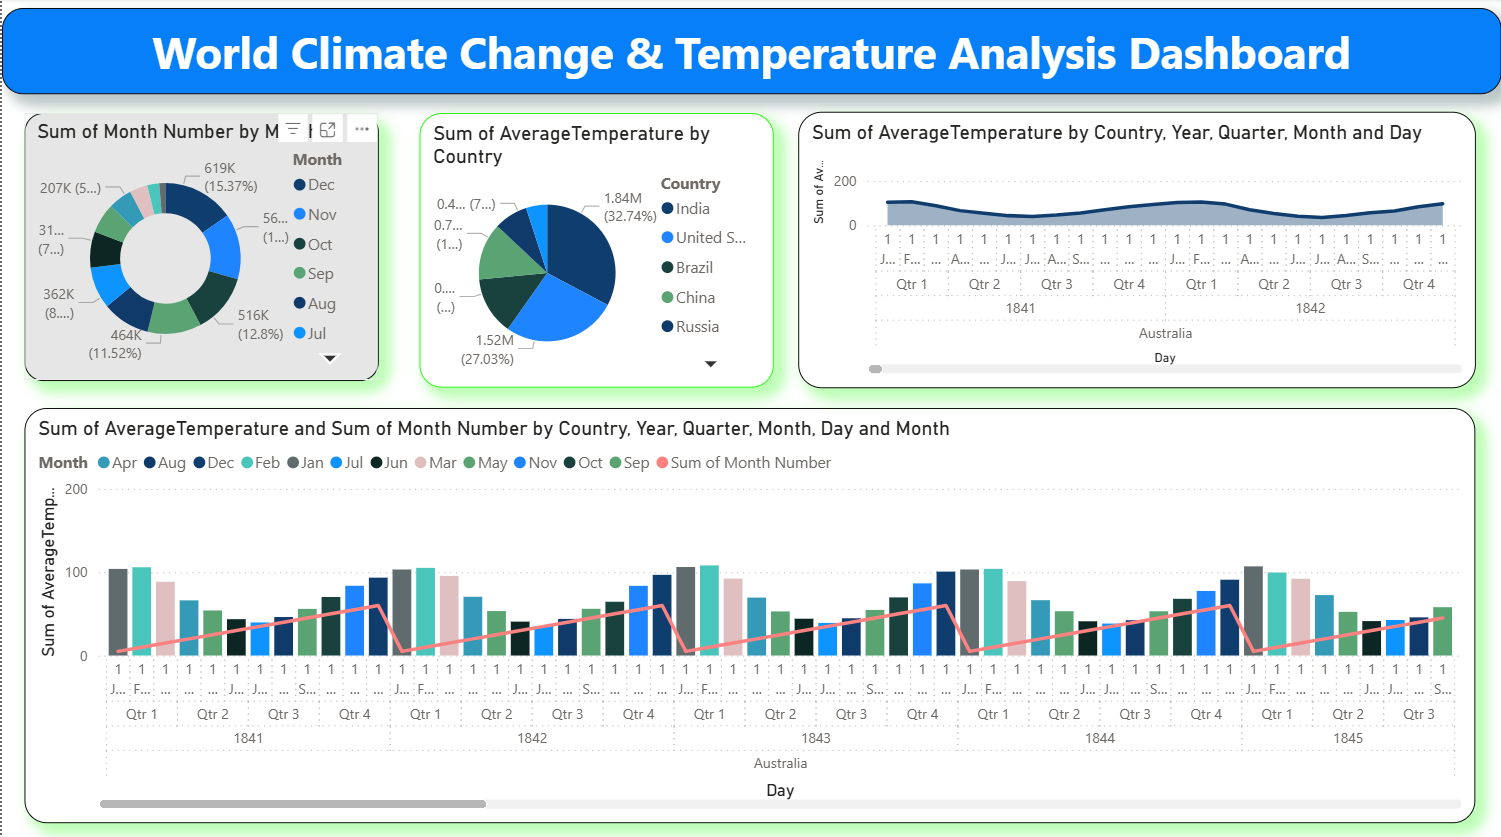

This screenshot's page, from the dashboard's own definition file:
{"tool":"powerbi","page":{"name":"Page 2","canvas":[1280,720],"ordinal":1},"visuals":[{"type":"donutChart","fields":{"Category":["GlobalLandTemperaturesByState.Month"],"Y":["Sum(GlobalLandTemperaturesByState.Month Number)"]},"box":[19.6,97.8,302,228.7],"z":0},{"type":"pieChart","fields":{"Category":["GlobalLandTemperaturesByState.Country"],"Y":["Sum(GlobalLandTemperaturesByState.AverageTemperature)"]},"box":[355.8,97.8,302,234.8],"z":1},{"type":"lineStackedColumnComboChart","fields":{"Category":["GlobalLandTemperaturesByState.Country","GlobalLandTemperaturesByState.dt.Variation.Date Hierarchy.Year","GlobalLandTemperaturesByState.dt.Variation.Date Hierarchy.Quarter","GlobalLandTemperaturesByState.dt.Variation.Date Hierarchy.Month","GlobalLandTemperaturesByState.dt.Variation.Date Hierarchy.Day"],"Series":["GlobalLandTemperaturesByState.Month"],"Y":["Sum(GlobalLandTemperaturesByState.AverageTemperature)"],"Y2":["Sum(GlobalLandTemperaturesByState.Month Number)"]},"box":[19.6,349.7,1238.7,354.6],"z":2},{"type":"textbox","box":[0,8.6,1280.3,73.4],"z":3},{"type":"stackedAreaChart","fields":{"Category":["GlobalLandTemperaturesByState.Country","GlobalLandTemperaturesByState.dt.Variation.Date Hierarchy.Year","GlobalLandTemperaturesByState.dt.Variation.Date Hierarchy.Quarter","GlobalLandTemperaturesByState.dt.Variation.Date Hierarchy.Month","GlobalLandTemperaturesByState.dt.Variation.Date Hierarchy.Day"],"Y":["Sum(GlobalLandTemperaturesByState.AverageTemperature)"]},"box":[680,97.1,578.6,235.7],"z":4}]}

Visuals, with their boxes in screenshot pixels (x1, y1, x2, y2), scaled from the page's 1280x720 canvas onto the 1501x837 screenshot:
donutChart - GlobalLandTemperaturesByState.Month x Sum(GlobalLandTemperaturesByState.Month Number): 23,114,377,380
pieChart - GlobalLandTemperaturesByState.Country x Sum(GlobalLandTemperaturesByState.AverageTemperature): 417,114,771,387
lineStackedColumnComboChart - GlobalLandTemperaturesByState.Country x GlobalLandTemperaturesByState.dt.Variation.Date Hierarchy.Year: 23,407,1476,819
textbox: 0,10,1500,95
stackedAreaChart - GlobalLandTemperaturesByState.Country x GlobalLandTemperaturesByState.dt.Variation.Date Hierarchy.Year: 797,113,1476,387
